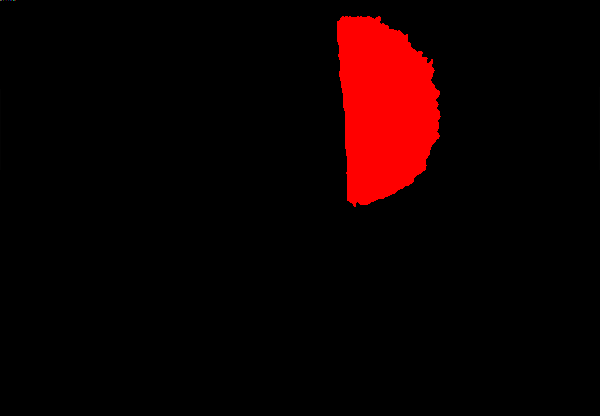stamp: (338, 15, 442, 207)
